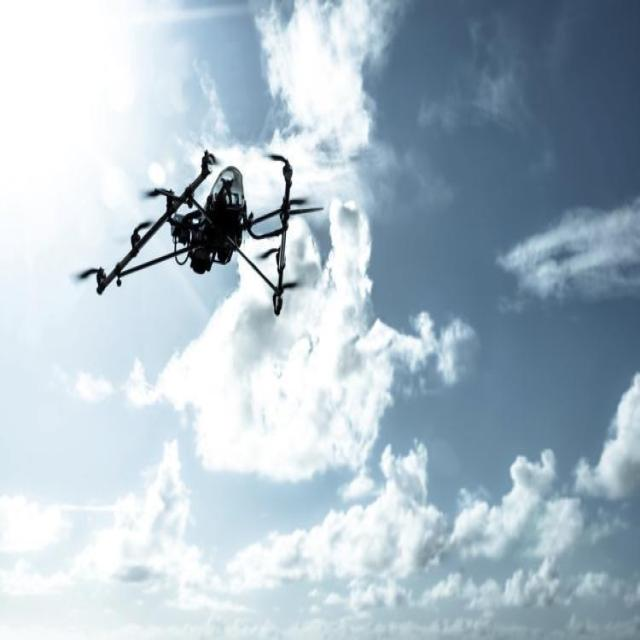drone: (75, 145, 322, 317)
